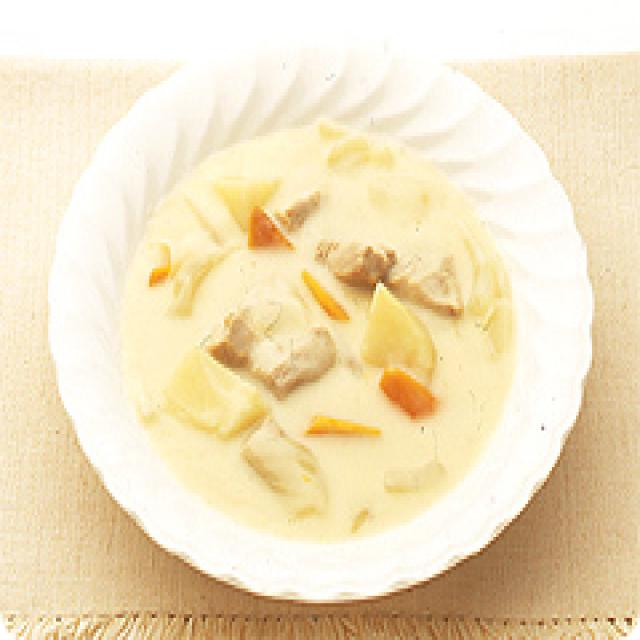汤锅炖物: (0, 66, 640, 607)
